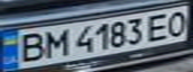1: (90, 20, 112, 51)
3: (124, 16, 148, 46)
4: (72, 24, 96, 54)
8: (109, 18, 130, 50)
B: (9, 30, 51, 64)
E: (142, 11, 175, 42)
M: (39, 27, 72, 58)
O: (160, 8, 193, 37)
